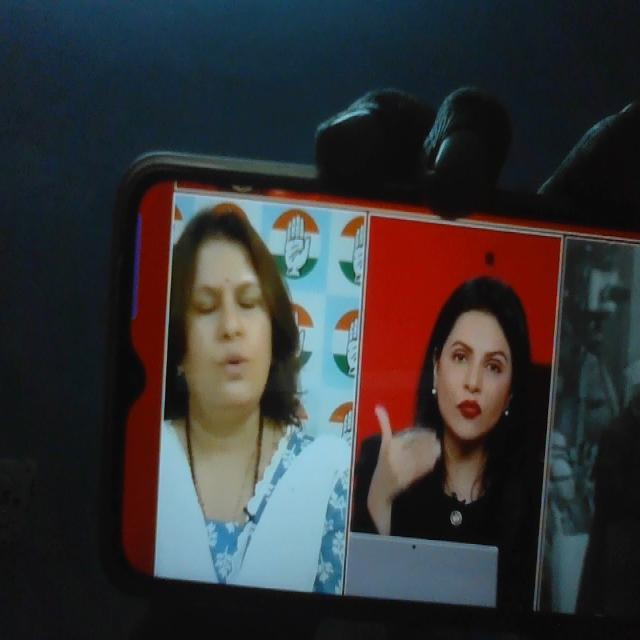fake: (168, 199, 284, 417), (421, 240, 536, 457)
